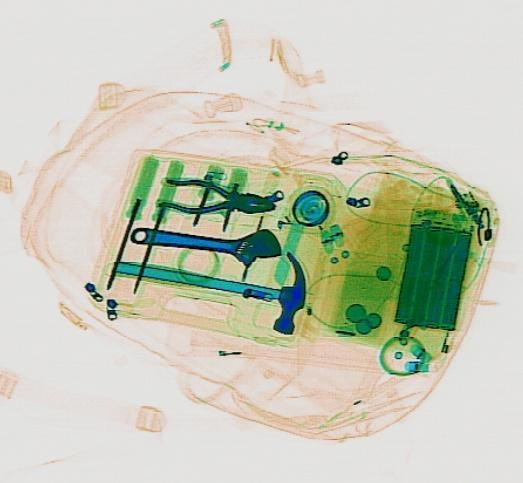Pliers: (154, 175, 277, 223)
Wrench: (128, 212, 285, 270)
